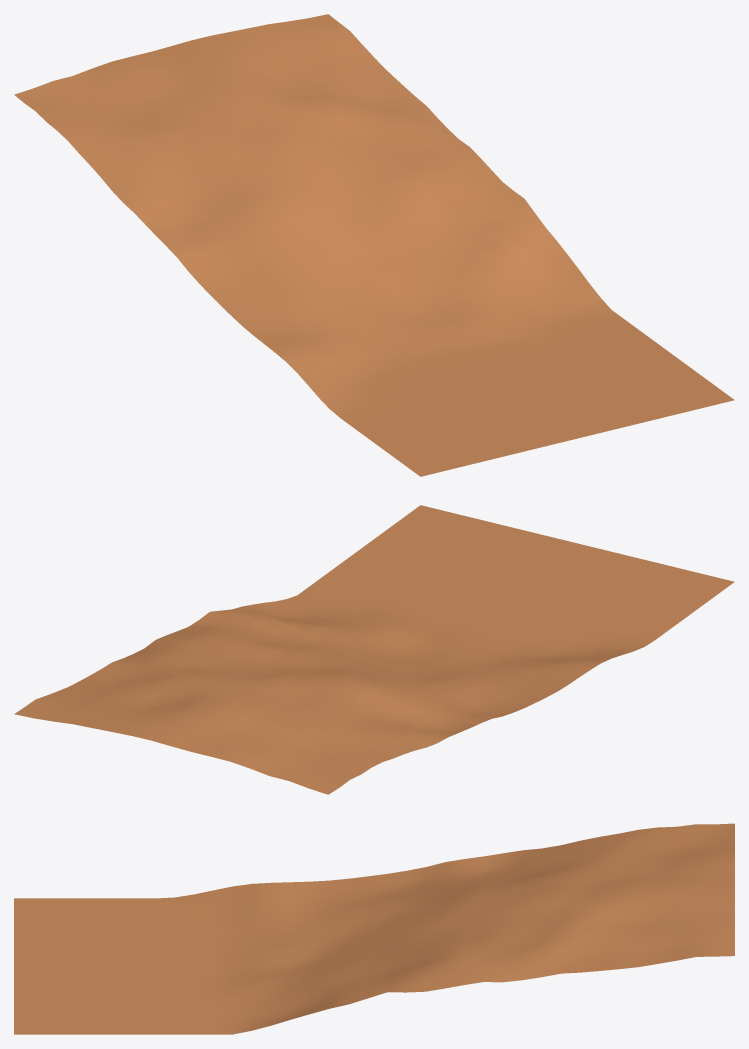
Rendered from map_0.gltf.
3 views of the same model, one above another, from view 1: azimuth 30°, elevation 25°; view 2: azimuth 150°, elevation 25°; view 3: azimuth 270°, elevation 25° (orthographic). The views are drawn at different scales.
Visible parts, largest first — view 1: landscape1; view 2: landscape1; view 3: landscape1.
Boxes of the visible parts, box(x1,y1,x2,y2) form: landscape1: box(14, 14, 734, 476); landscape1: box(14, 505, 734, 794); landscape1: box(14, 823, 734, 1034).
Bounding box in the file's own units: 9.38 × 2.72 × 21.
